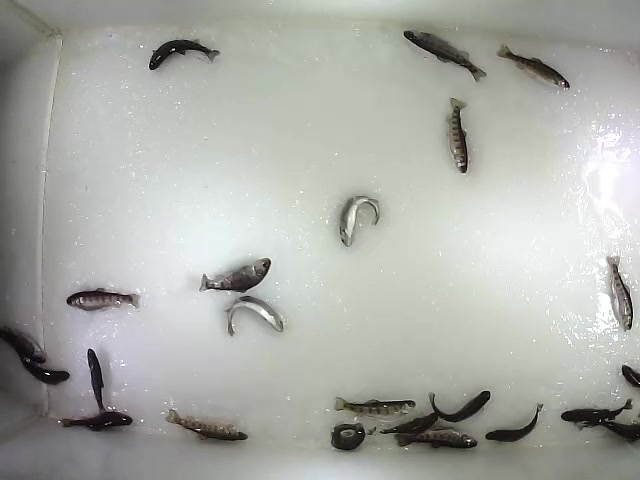fish: (401, 29, 489, 84), (494, 42, 572, 90), (164, 408, 250, 442), (198, 257, 272, 295), (223, 296, 285, 337), (485, 401, 544, 444), (148, 38, 222, 72), (604, 253, 635, 333), (338, 194, 382, 249), (12, 347, 70, 387), (443, 96, 471, 175), (428, 389, 491, 423), (65, 287, 142, 314), (333, 395, 418, 419), (560, 397, 635, 424), (366, 410, 441, 437), (395, 429, 479, 450), (60, 411, 134, 434), (86, 347, 109, 415), (330, 420, 366, 452)
